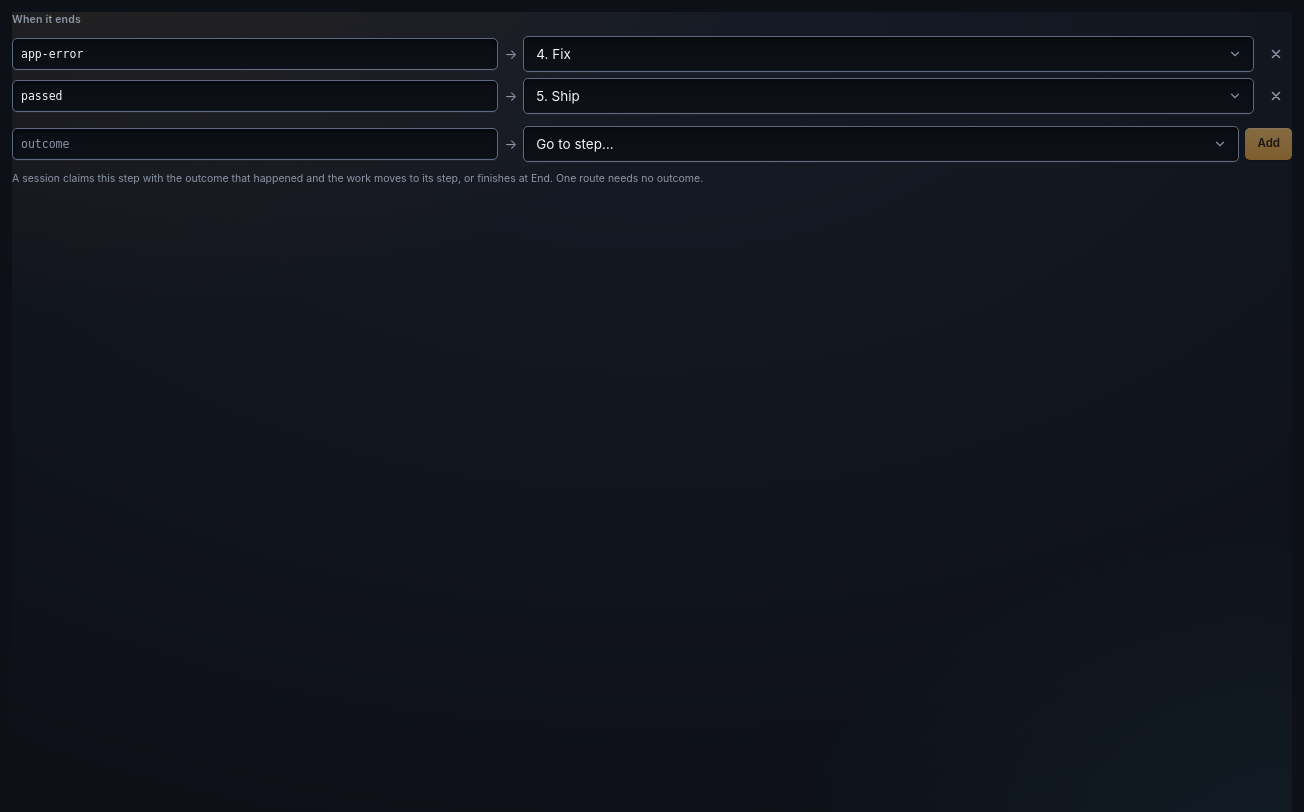
it: FlowRouteEditor › keeps Add disabled until both an outcome and a target are given
The image size is (1304, 812).
Expected: the submit button is disabled, [1246, 128, 1292, 160]
Type "rollback" into the field with placeholder "outcome" at (255, 144), box [12, 128, 498, 160]
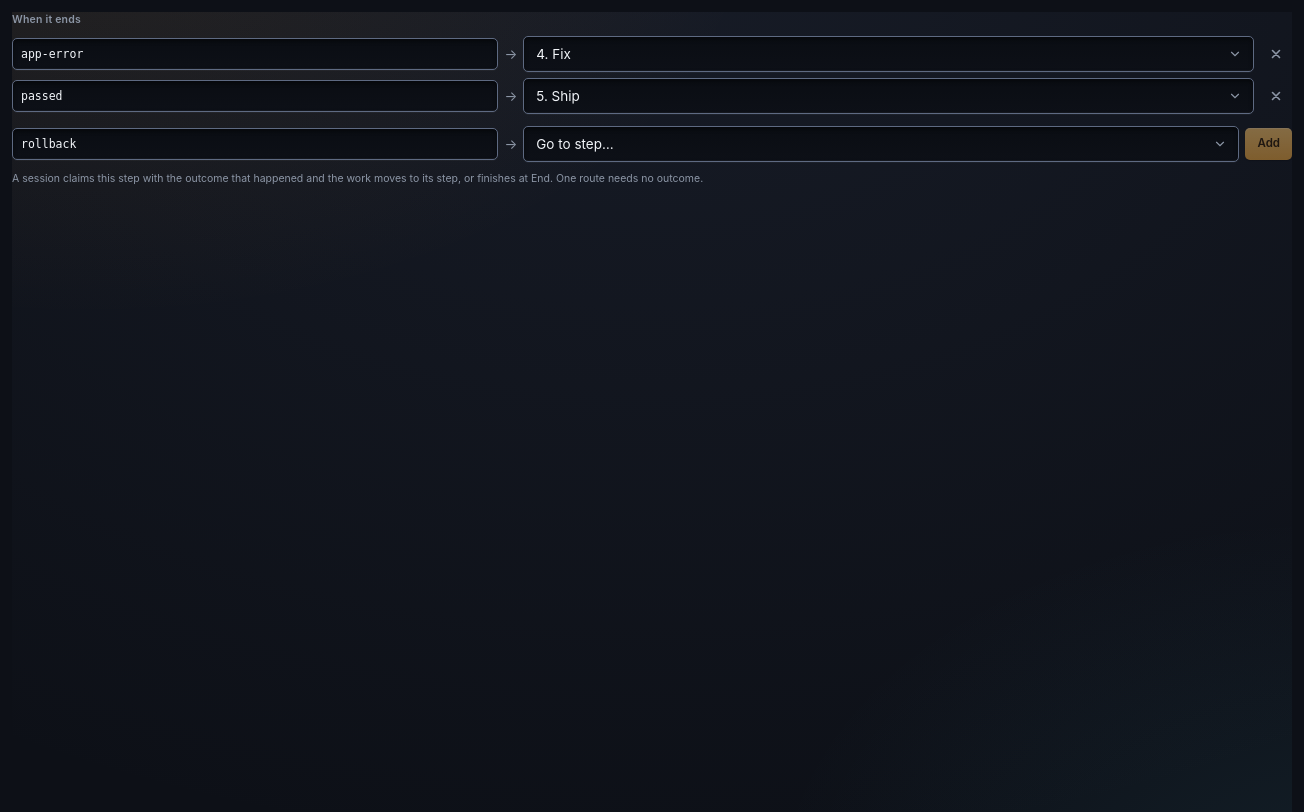
Expected: the submit button is disabled, [1246, 128, 1292, 160]
Select "1. Build" in the 3rd dropdown at (881, 144), box [523, 126, 1240, 162]
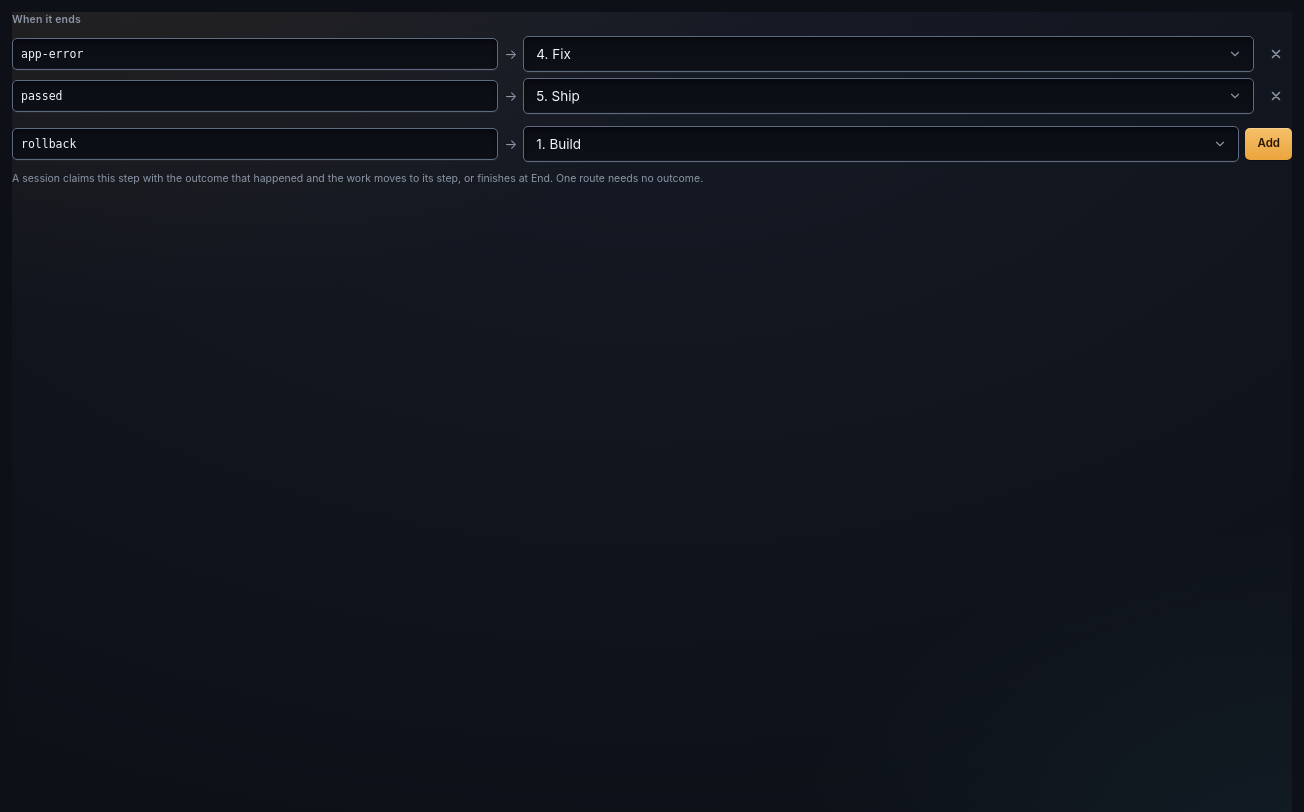
Now the submit button is enabled, box [1246, 128, 1292, 160]
